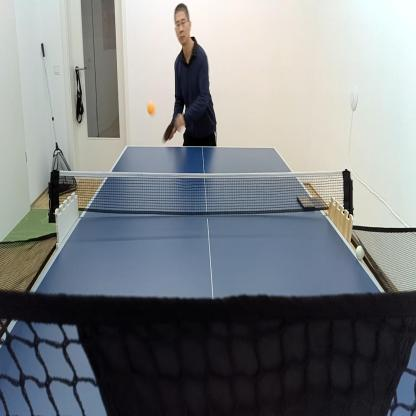Ball: (355, 243, 366, 262), (146, 100, 156, 117)
